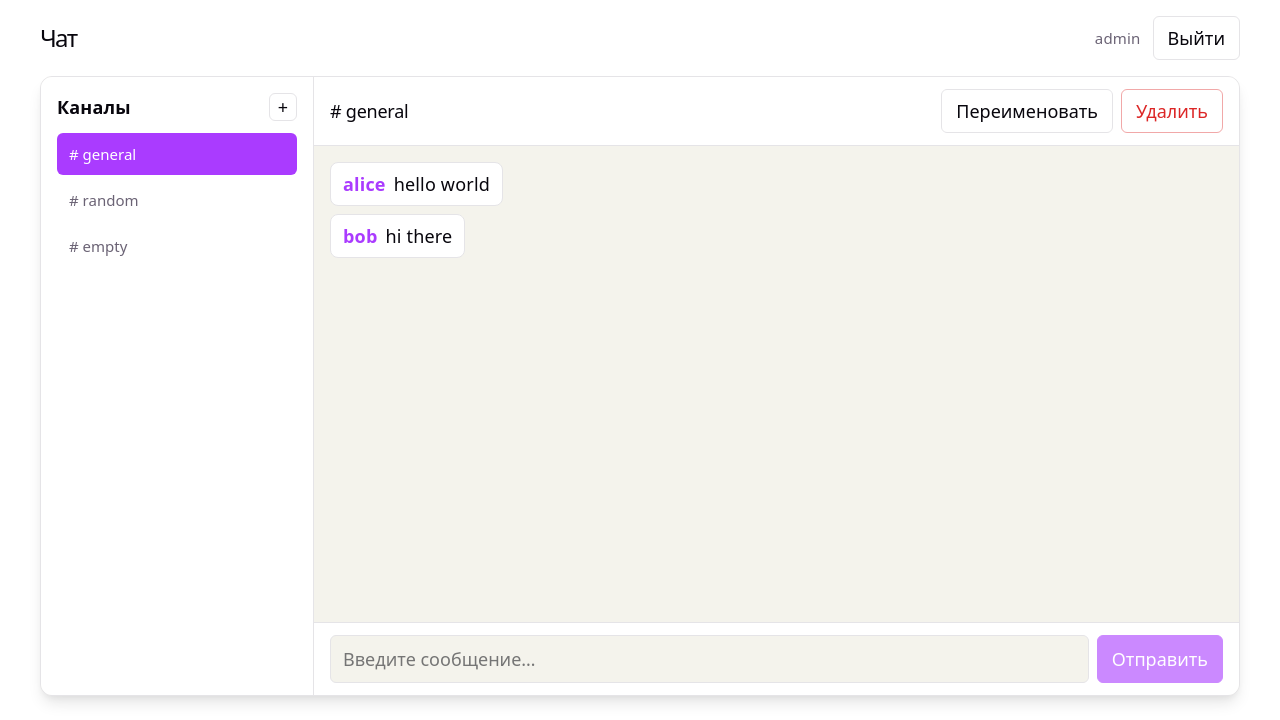
Test: ChatWindow › channel dialogs › shows a connection error when the socket is offline
The width and height of the screenshot is (1280, 720).
Check: the heading "# general" is shown, box 330,100 -> 408,122
Click the button named "Добавить канал".
click(283, 107)  # box 269,93 -> 297,121
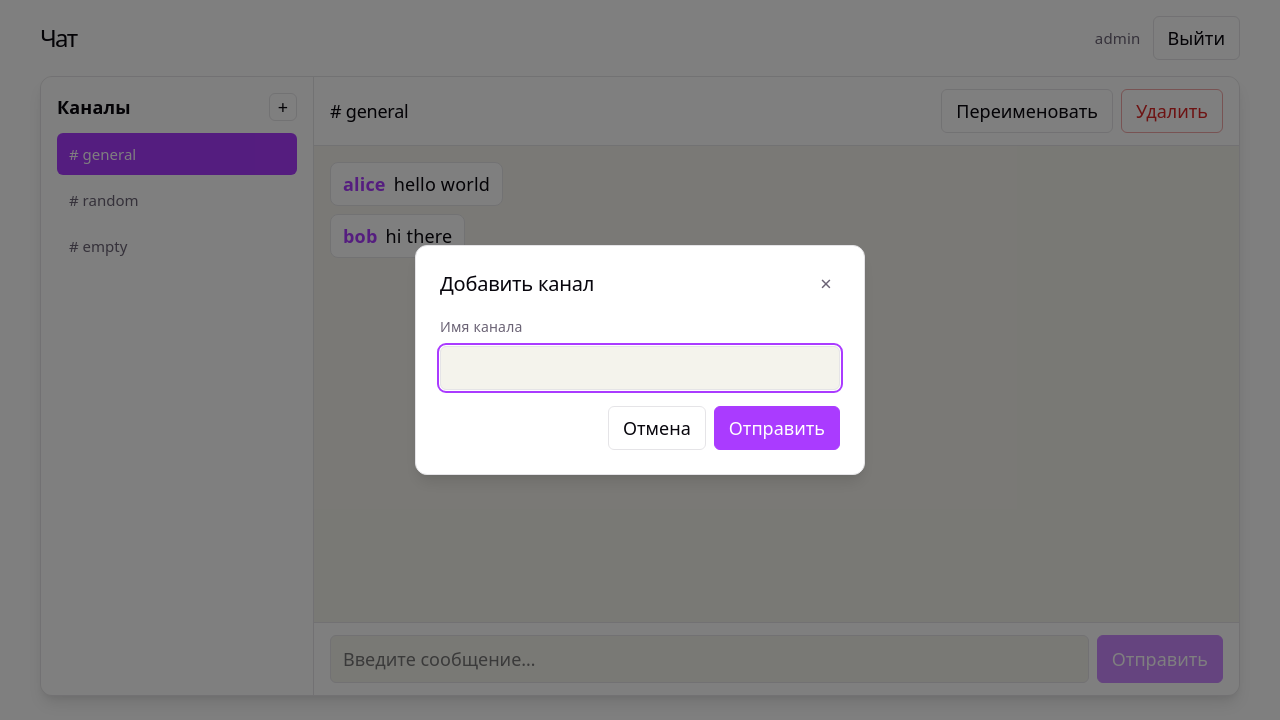
Type "канал" into the field labelled "Имя канала".
click(640, 368); type("канал")  # box 440,346 -> 840,390
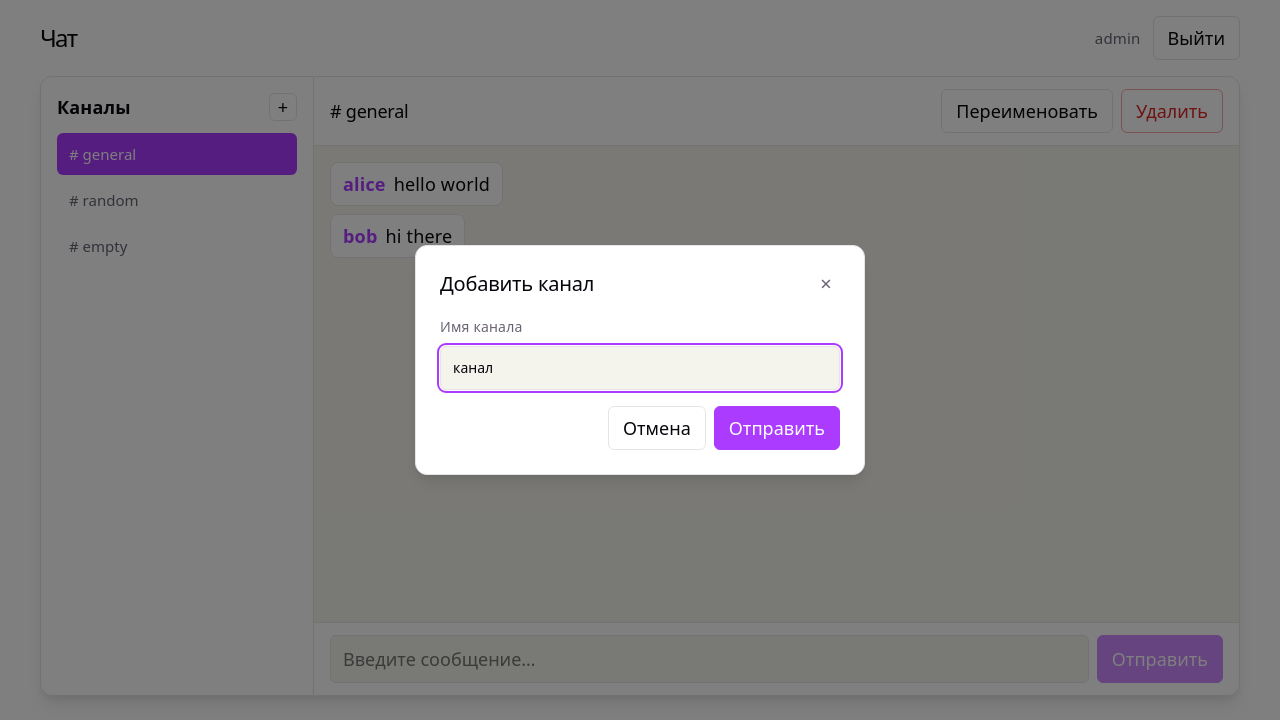
Click the button "Отправить".
click(777, 428)  # box 714,406 -> 840,450
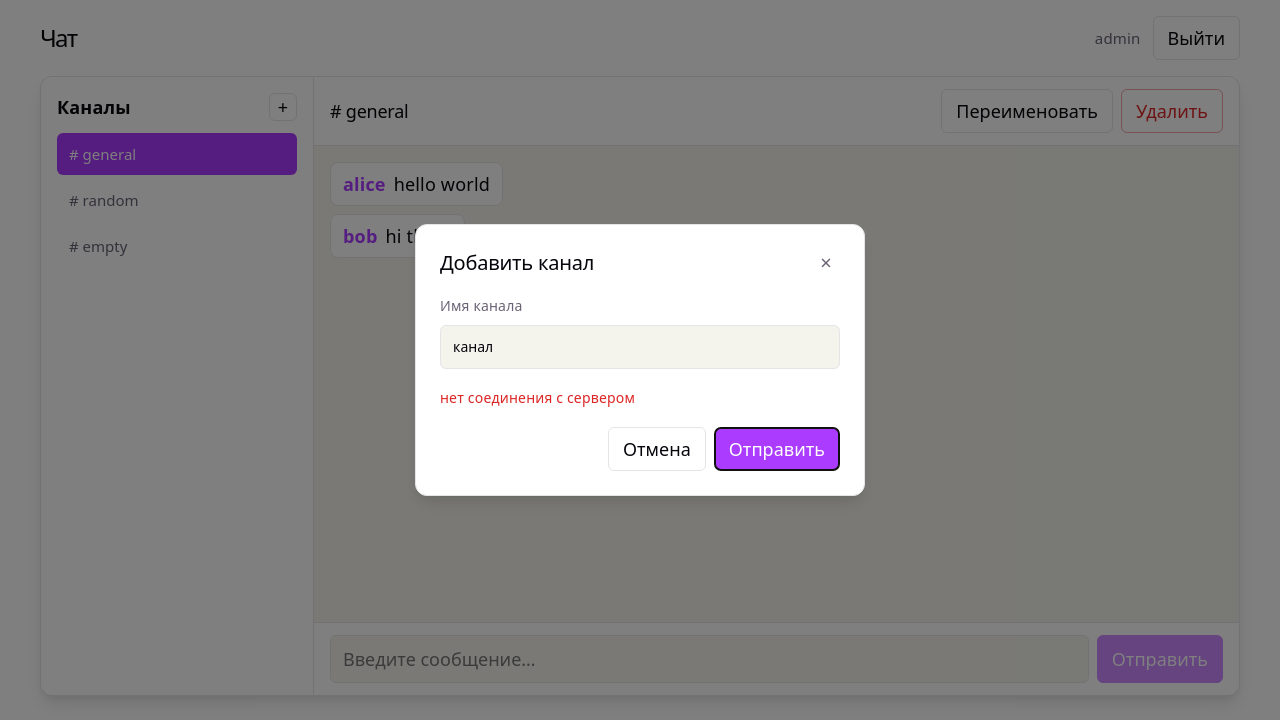
Check: the dialog is shown, box 415,224 -> 865,496
Check: the text "нет соединения с сервером" is shown, box 440,388 -> 635,407
